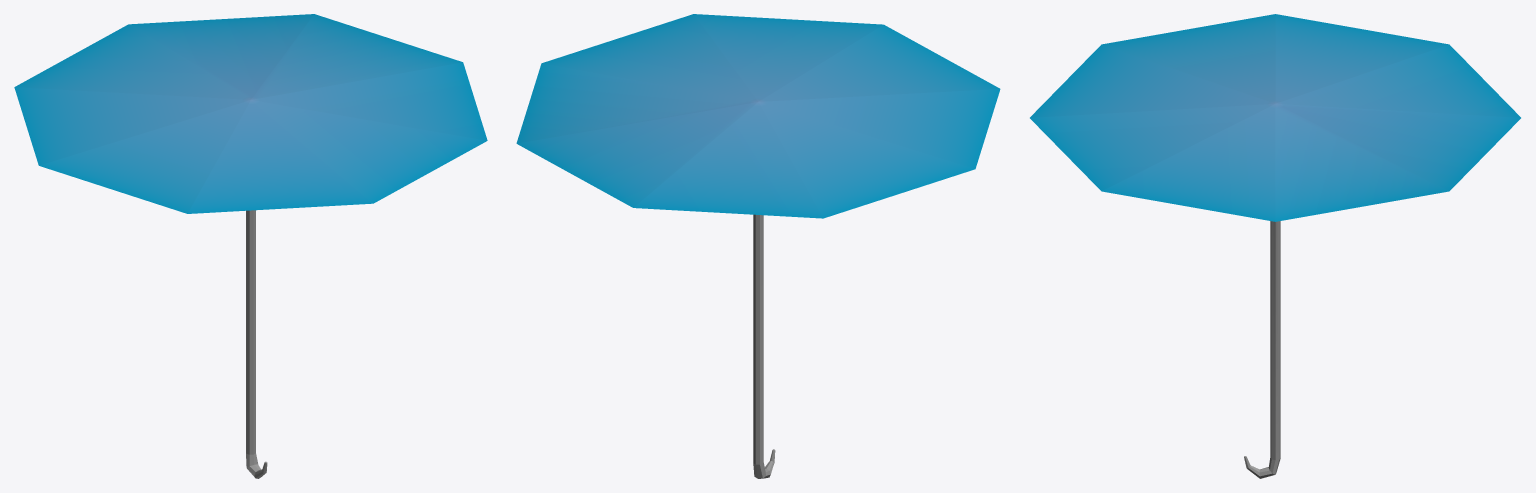
Rendered from item_umbrella.glb.
3 renders of one model, left to right at view 1: azimuth 30°, elevation 25°; view 2: azimuth 150°, elevation 25°; view 3: azimuth 270°, elevation 25°, orthographic. The views are drawn at different scales.
Visible parts, largest first — view 1: Cone; view 2: Cone; view 3: Cone.
Boxes of the visible parts, x1,y1,x2,y2 form: Cone: (14,14,487,478); Cone: (516,14,1000,478); Cone: (1030,14,1520,478).
Size of the model in its own units: 0.9739 by 0.8193 by 0.9739.
